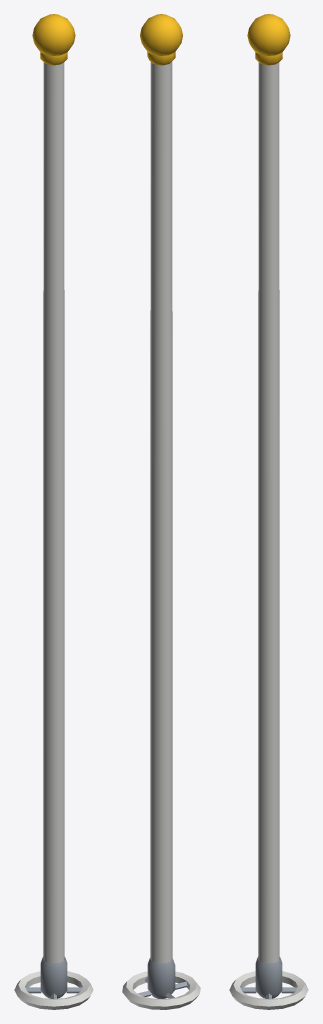
File: golf_flag.glb
The picture shows the model from 3 angles, left to right: view 1: azimuth 90°, elevation 25°; view 2: azimuth 210°, elevation 25°; view 3: azimuth 270°, elevation 25°; orthographic projection.
Parts seen in each view (by area): view 1: body; view 2: body; view 3: body.
Part boxes in pixels (left/top/right/bottom): body: left=14, top=14, right=93, bottom=1009; body: left=122, top=14, right=200, bottom=1009; body: left=229, top=14, right=308, bottom=1009.
Size of the model in its own units: 0.176 by 2.4 by 0.176.
